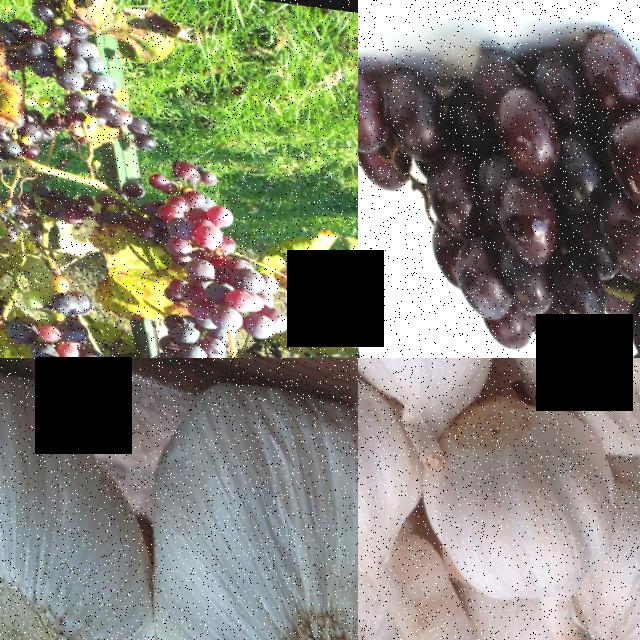garlic: (110, 358, 358, 640), (0, 358, 181, 640), (404, 390, 621, 621), (490, 358, 640, 442), (358, 374, 414, 586), (358, 546, 480, 640), (568, 519, 640, 640)
grapes: (358, 0, 640, 358), (138, 139, 282, 329), (570, 8, 640, 358), (7, 0, 142, 131), (0, 279, 137, 358)
